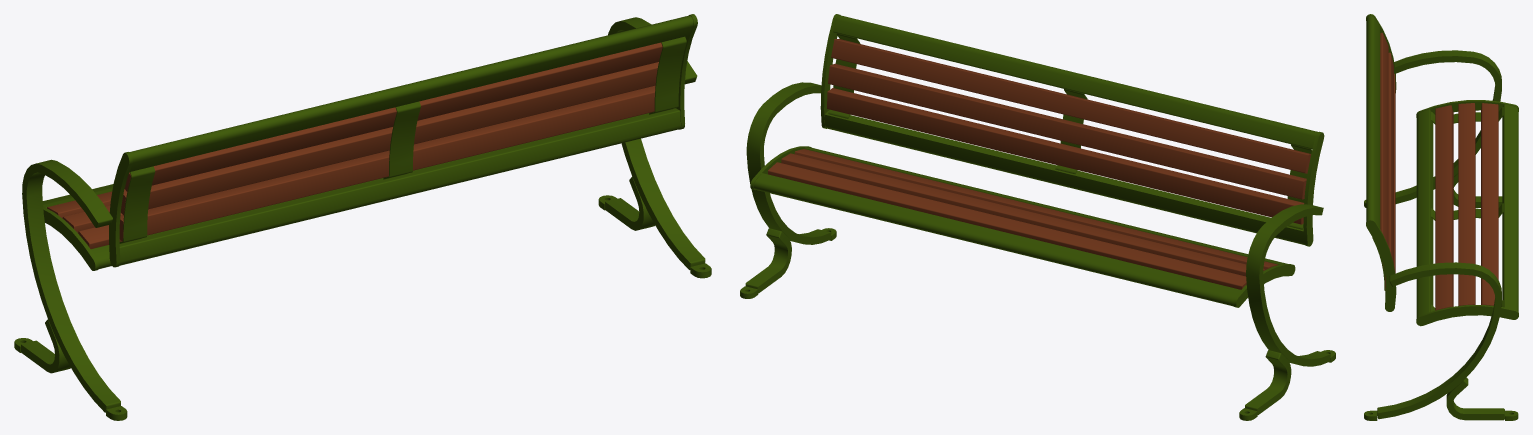
3 views of the same model, side by side, from view 1: azimuth 30°, elevation 25°; view 2: azimuth 150°, elevation 25°; view 3: azimuth 270°, elevation 25° (orthographic). The views are drawn at different scales.
Parts seen in each view (by area): view 1: mesh32_mesh32-geometry, mesh23_mesh23-geometry, mesh1_mesh1-geometry, mesh20_mesh20-geometry, mesh27_mesh27-geometry, mesh9_mesh9-geometry, mesh6_mesh6-geometry, mesh12_mesh12-geometry; view 2: mesh32_mesh32-geometry, mesh23_mesh23-geometry, mesh1_mesh1-geometry, mesh27_mesh27-geometry, mesh9_mesh9-geometry, mesh20_mesh20-geometry, mesh6_mesh6-geometry, mesh12_mesh12-geometry; view 3: mesh32_mesh32-geometry, mesh23_mesh23-geometry, mesh1_mesh1-geometry, mesh6_mesh6-geometry, mesh27_mesh27-geometry, mesh9_mesh9-geometry, mesh17_mesh17-geometry, mesh12_mesh12-geometry.
Part boxes in pixels (box(x1,y1,x2,y2)): mesh32_mesh32-geometry: box(47, 42, 662, 248); mesh23_mesh23-geometry: box(43, 15, 693, 268); mesh1_mesh1-geometry: box(22, 17, 705, 412); mesh20_mesh20-geometry: box(119, 36, 686, 243); mesh27_mesh27-geometry: box(21, 177, 655, 373); mesh9_mesh9-geometry: box(109, 14, 697, 267); mesh6_mesh6-geometry: box(43, 206, 99, 270); mesh12_mesh12-geometry: box(14, 195, 711, 420); mesh32_mesh32-geometry: box(768, 39, 1310, 289); mesh23_mesh23-geometry: box(754, 15, 1317, 306); mesh1_mesh1-geometry: box(746, 82, 1330, 366); mesh27_mesh27-geometry: box(745, 228, 1291, 414); mesh9_mesh9-geometry: box(820, 14, 1324, 246); mesh20_mesh20-geometry: box(828, 33, 1311, 229); mesh6_mesh6-geometry: box(750, 146, 1295, 307); mesh12_mesh12-geometry: box(740, 228, 1335, 420); mesh32_mesh32-geometry: box(1380, 32, 1498, 310); mesh23_mesh23-geometry: box(1366, 16, 1518, 317); mesh1_mesh1-geometry: box(1377, 50, 1501, 419); mesh6_mesh6-geometry: box(1416, 100, 1518, 326); mesh27_mesh27-geometry: box(1446, 173, 1504, 420); mesh9_mesh9-geometry: box(1366, 14, 1396, 311); mesh17_mesh17-geometry: box(1430, 107, 1503, 311); mesh12_mesh12-geometry: box(1364, 200, 1518, 420).
Bounding box in the file's own units: 0.8892 × 0.3711 × 0.2674.
